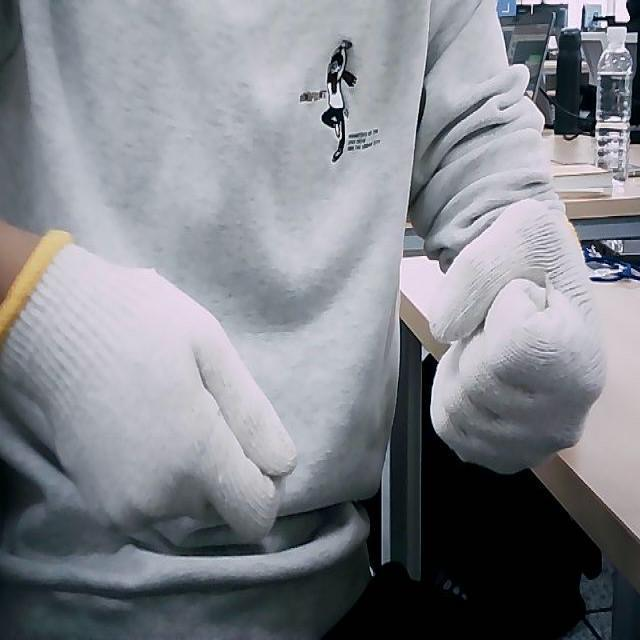gloves: (0, 229, 299, 543), (428, 195, 606, 476)
